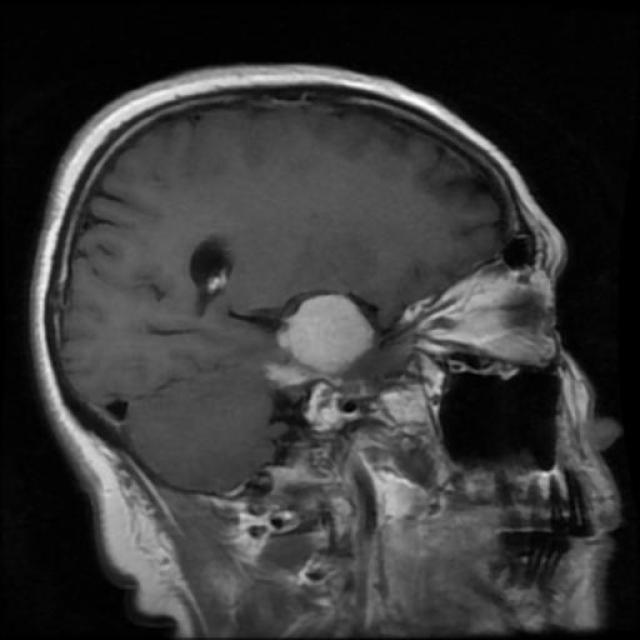meningioma: (269, 295, 376, 389)
